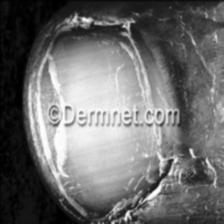Toxin: (40, 18, 178, 224)
